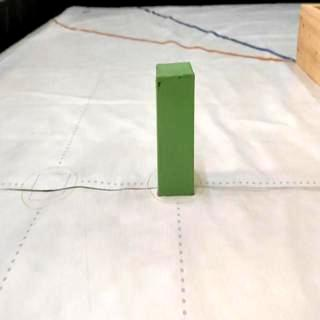greenbox: (154, 62, 196, 194)
